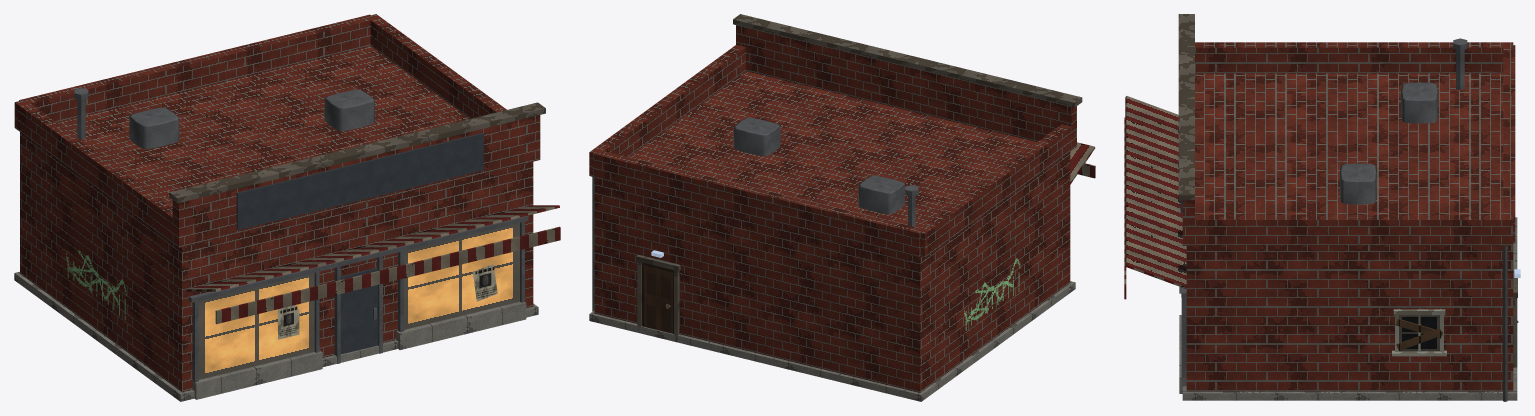
Rendered from town_pawnshop.glb.
3 views of the same model, side by side, from view 1: azimuth 30°, elevation 25°; view 2: azimuth 150°, elevation 25°; view 3: azimuth 270°, elevation 25° (orthographic). The views are drawn at different scales.
Parts seen in each view (by area): view 1: detail, shell-col; view 2: shell-col, detail; view 3: shell-col, detail.
Boxes of the visible parts, x1,y1,x2,y2 form: detail: [14, 14, 560, 399]; shell-col: [14, 46, 538, 401]; shell-col: [589, 71, 1075, 401]; detail: [589, 14, 1095, 341]; shell-col: [1182, 73, 1517, 400]; detail: [1124, 14, 1520, 401].
Size of the model in its own units: 10.5 by 5.62 by 9.7.
Materials: 15 (15 with a texture image).
